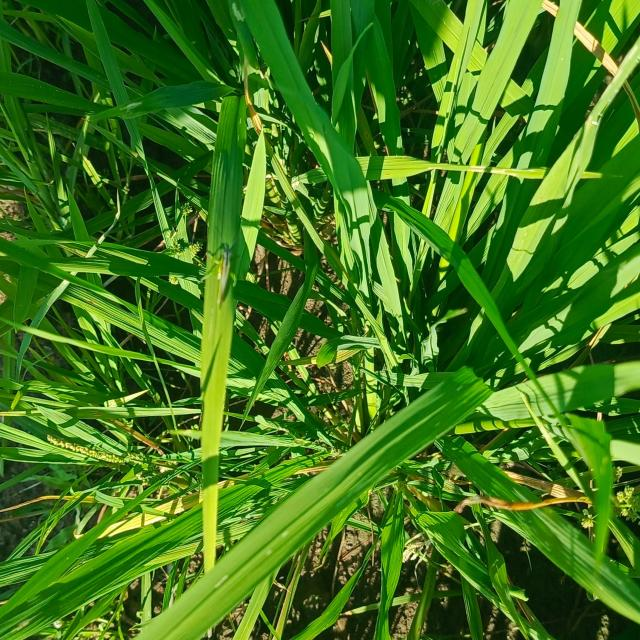rice leaf roller -penggulung daun padi-: (3, 2, 637, 637)
walang sangit pada tanaman padi: (199, 232, 253, 321)
